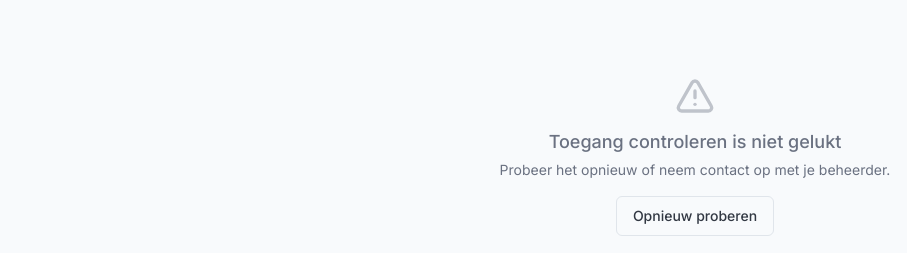
Test case: urenmodule route gate › shows a retry on a read error while protecting nested queries
Click the button "Opnieuw proberen".
click(695, 216)  # box [616, 196, 774, 236]
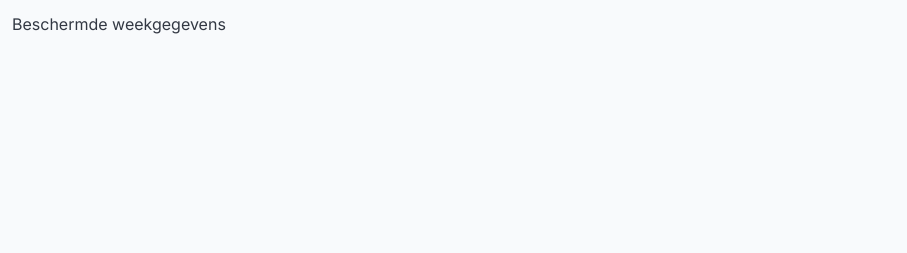
Check: the text "Beschermde weekgegevens" is shown, box [12, 14, 226, 34]
